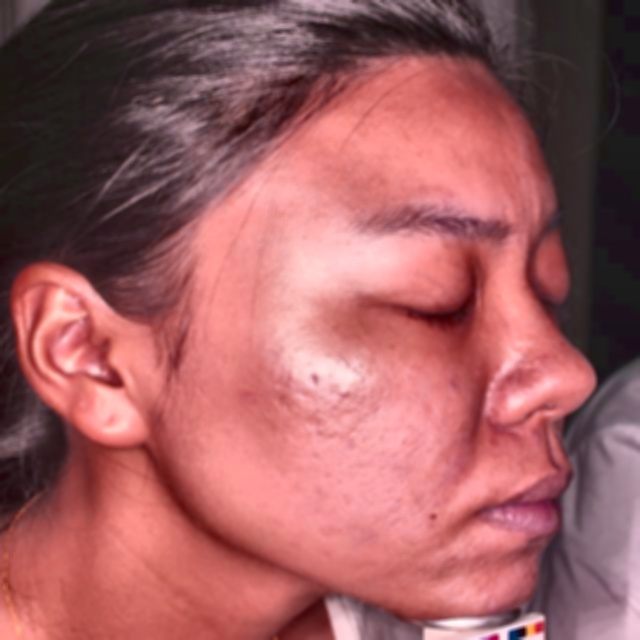comedone: (473, 586, 507, 609)
